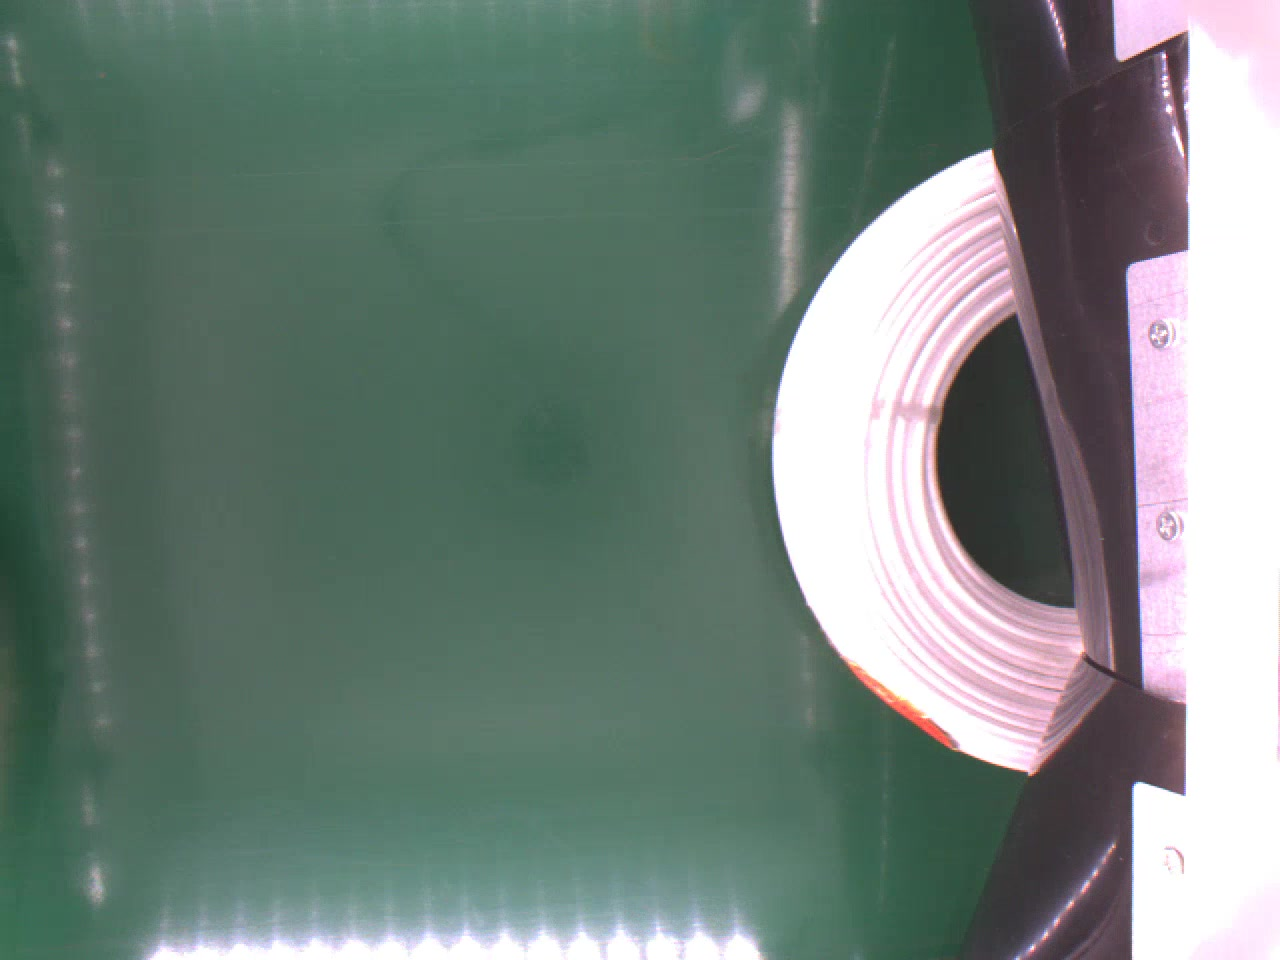white: (769, 144, 1085, 770)
